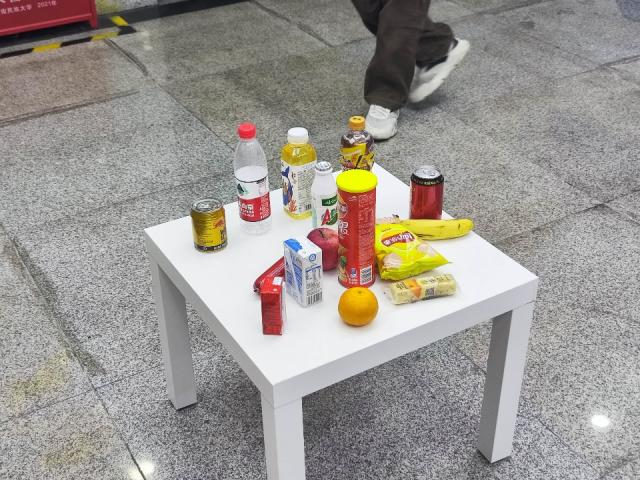Canned_drinks: (192, 195, 229, 253), (410, 165, 449, 218)
bottle: (233, 120, 271, 239)
cylinder: (337, 170, 379, 297)
drink_box: (282, 231, 328, 318), (256, 276, 290, 340)
